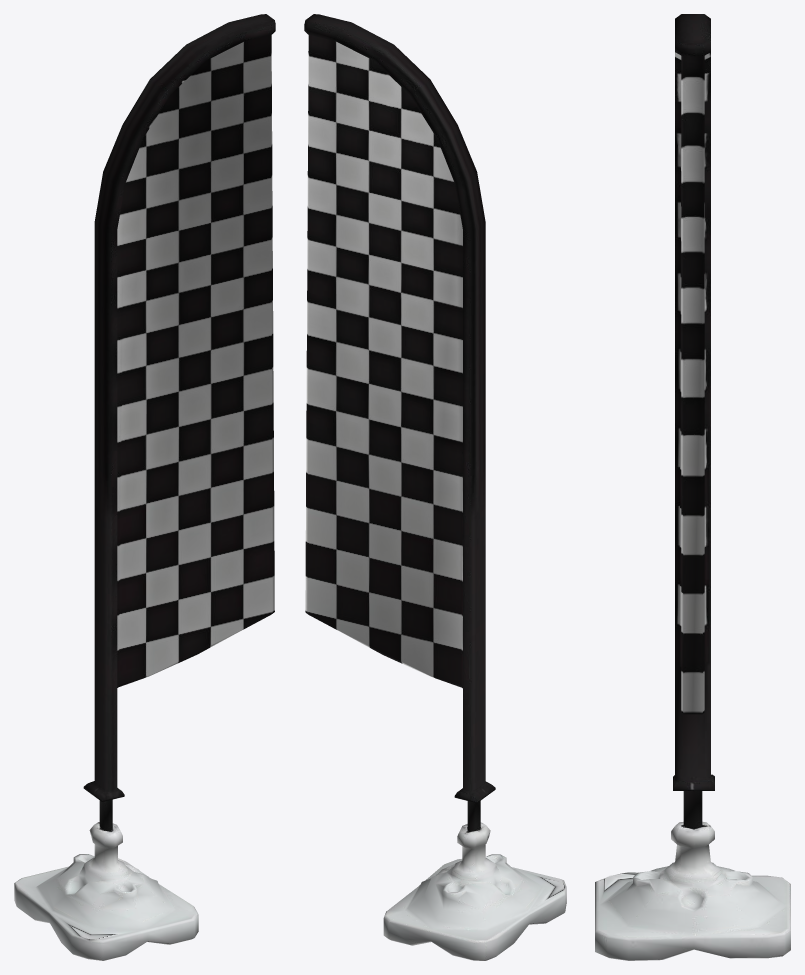
File: checkered-flag.glb
3 renders of one model, left to right at view 1: azimuth 30°, elevation 25°; view 2: azimuth 150°, elevation 25°; view 3: azimuth 270°, elevation 25°, orthographic. The views are drawn at different scales.
Visible parts, largest first — view 1: tripo_node_a38e2541; view 2: tripo_node_a38e2541; view 3: tripo_node_a38e2541.
Part boxes in pixels (<box>): tripo_node_a38e2541: <box>14,14,275,960</box>; tripo_node_a38e2541: <box>304,14,566,960</box>; tripo_node_a38e2541: <box>595,14,790,960</box>.
Bounding box in the file's own units: 0.273 × 0.9755 × 0.1775.
Materials: 1 (1 with a texture image).
